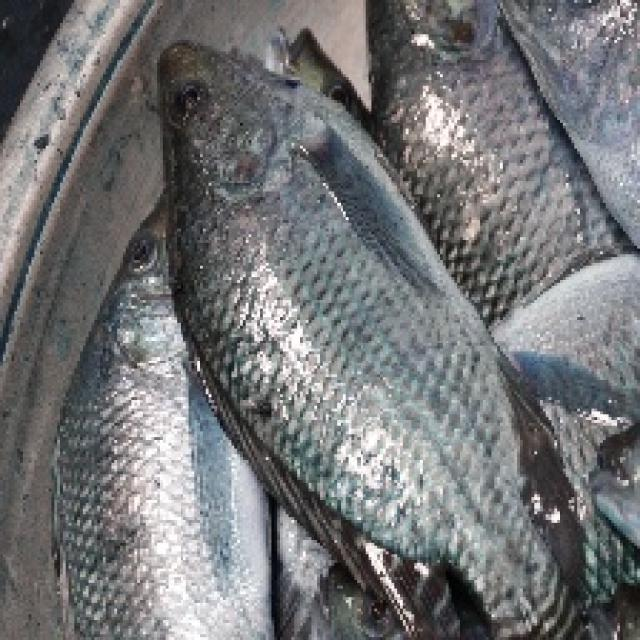Fresh: (142, 54, 547, 586)
